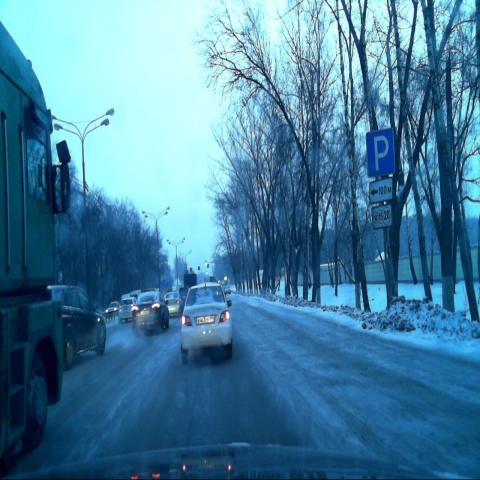6_4: (366, 128, 396, 176)
8_1_4: (368, 178, 393, 202)
8_8: (371, 206, 392, 230)
